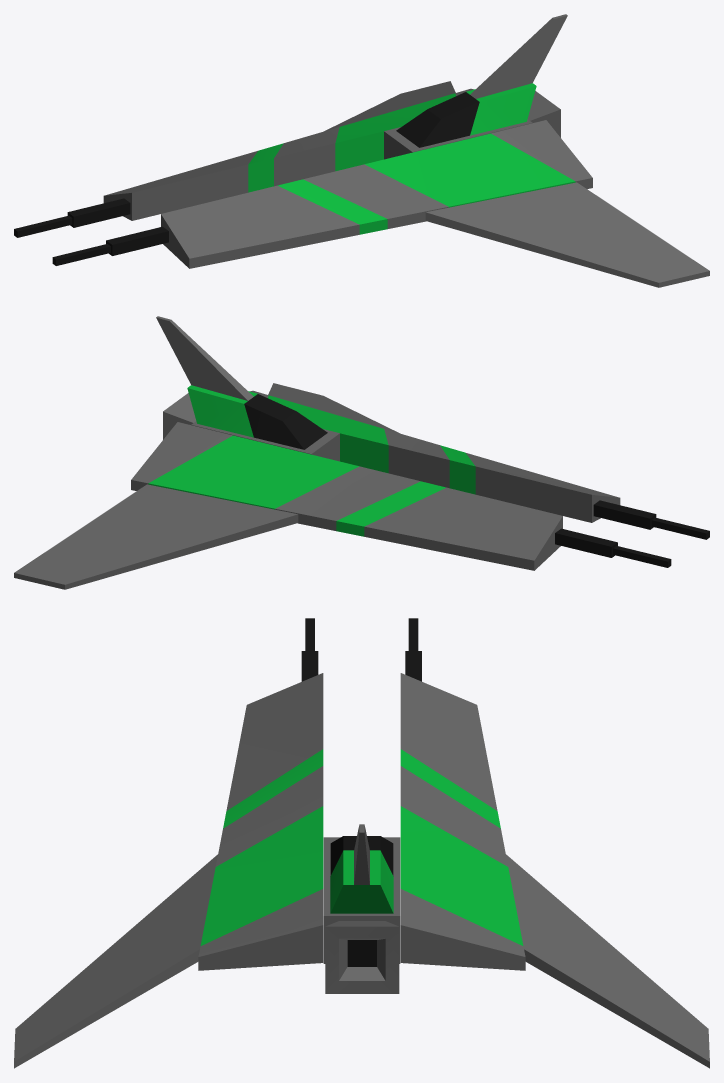
The model's file is Solstice.FBX.
3 views of the same model, one above another, from view 1: azimuth 30°, elevation 25°; view 2: azimuth 150°, elevation 25°; view 3: azimuth 270°, elevation 25° (orthographic). The views are drawn at different scales.
Visible parts, largest first — view 1: 3; view 2: 3; view 3: 3.
Part boxes in pixels (x1,y1,x2,y2): 3: [14, 14, 709, 287]; 3: [14, 316, 709, 589]; 3: [14, 618, 709, 1068].
Bounding box in the file's own units: 116 × 34.43 × 95.59.
